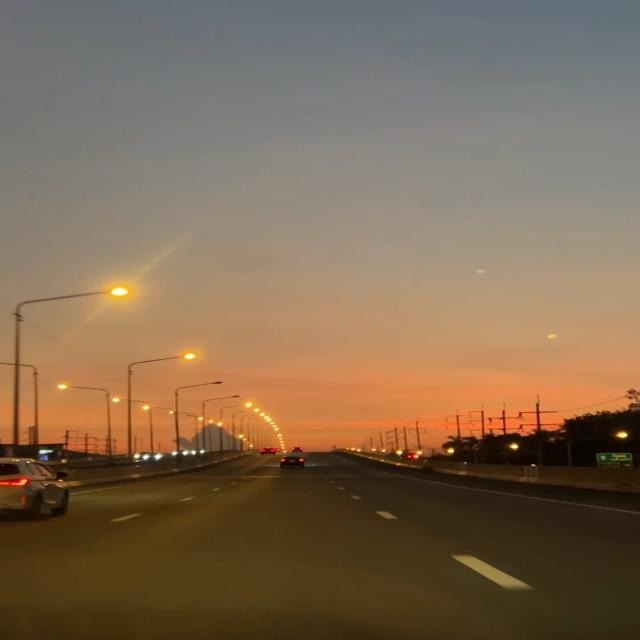Poth-hole: (92, 498, 441, 598)
